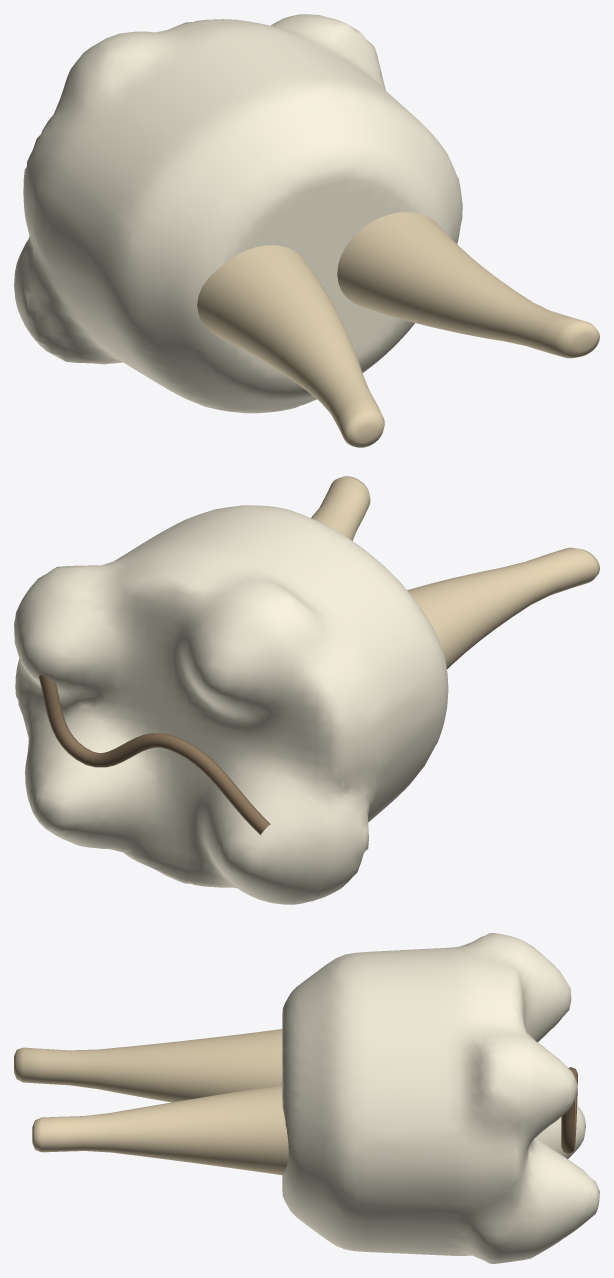
File: third-molar.glb
The picture shows the model from 3 angles, top to bottom: view 1: azimuth 30°, elevation 25°; view 2: azimuth 150°, elevation 25°; view 3: azimuth 270°, elevation 25°; orthographic projection. The views are drawn at different scales.
Visible parts, largest first — view 1: Crown_Anatomical.007, Root_2.001, Root_1.005; view 2: Crown_Anatomical.007, Root_1.005, Irregular_Groove, Root_2.001; view 3: Crown_Anatomical.007, Root_2.001, Root_1.005, Irregular_Groove.
Part boxes in pixels (x1,y1,x2,y2): Crown_Anatomical.007: [14, 14, 462, 413]; Root_2.001: [337, 212, 599, 358]; Root_1.005: [197, 245, 384, 447]; Crown_Anatomical.007: [14, 505, 448, 904]; Root_1.005: [407, 547, 599, 669]; Irregular_Groove: [38, 675, 270, 834]; Root_2.001: [311, 476, 370, 540]; Crown_Anatomical.007: [282, 933, 599, 1263]; Root_2.001: [32, 1084, 288, 1175]; Root_1.005: [14, 1029, 282, 1102]; Irregular_Groove: [561, 1067, 577, 1153].
Bounding box in the file's own units: 0.9504 × 0.828 × 1.57.
